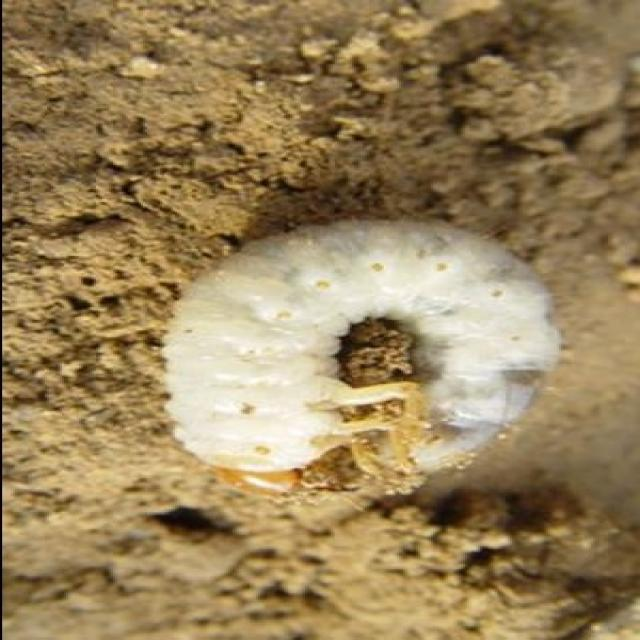grub: (166, 219, 557, 500)
